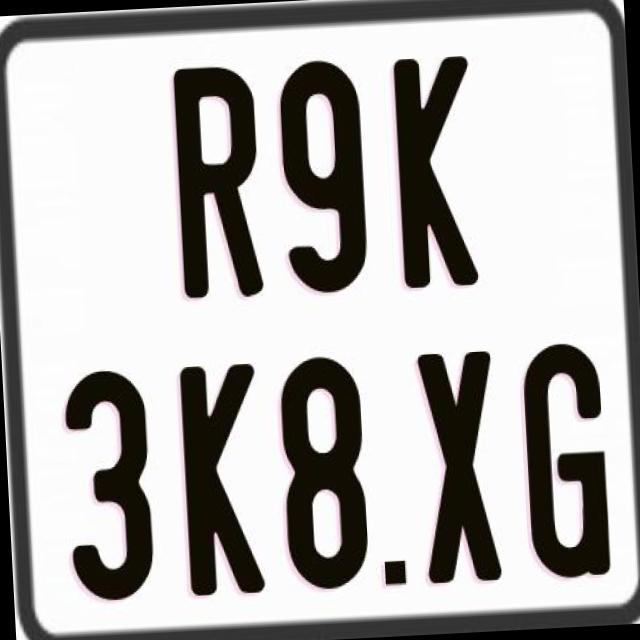3: (59, 364, 160, 597)
8: (275, 355, 370, 594)
9: (276, 56, 376, 300)
G: (522, 338, 612, 584)
K: (180, 360, 274, 602), (392, 54, 480, 293)
R: (170, 61, 270, 300)
X: (412, 348, 500, 590)
